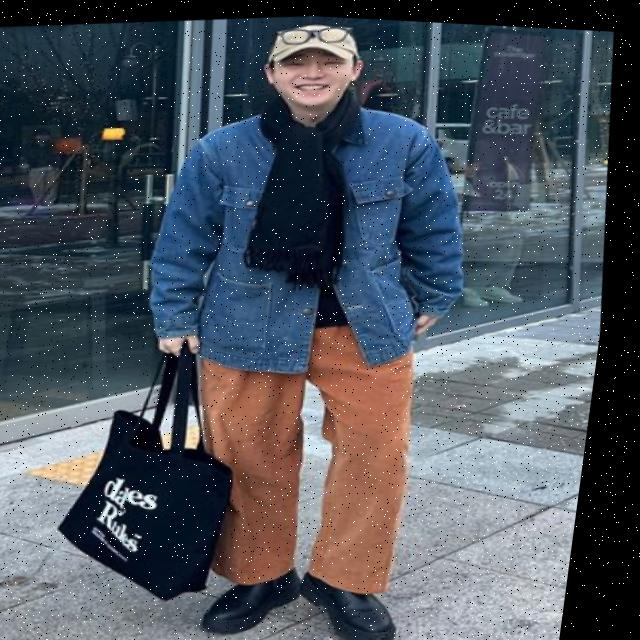ecobag: (25, 327, 298, 608)
